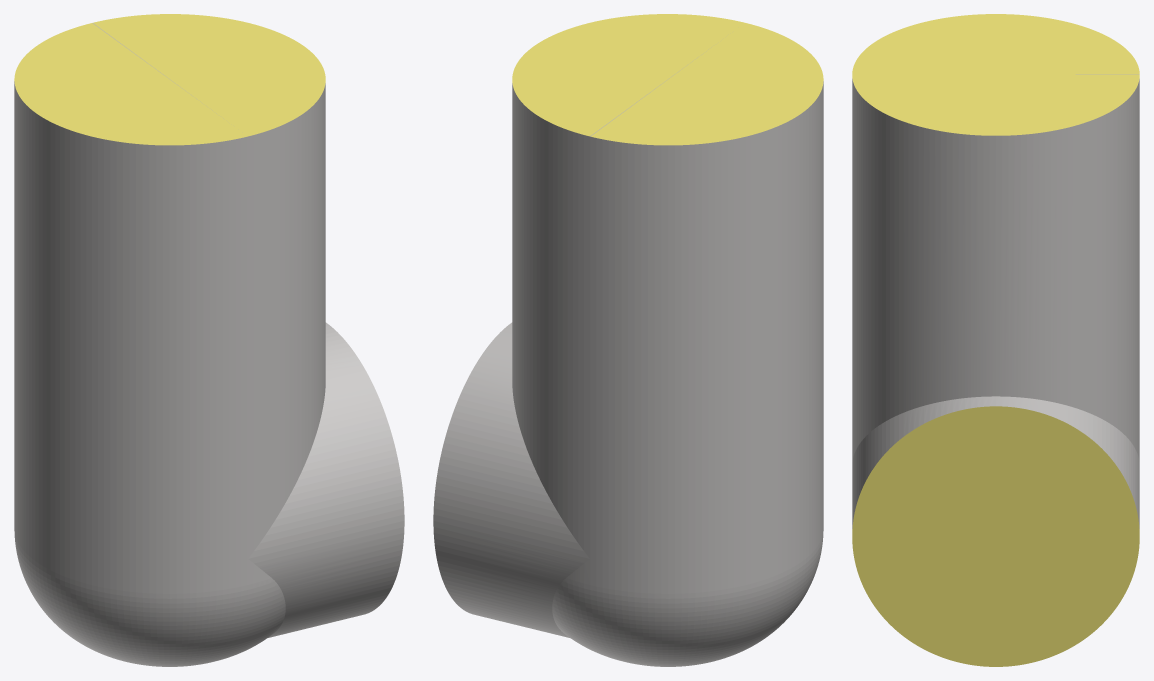
File: arm1.dae
The picture shows the model from 3 angles, left to right: view 1: azimuth 30°, elevation 25°; view 2: azimuth 150°, elevation 25°; view 3: azimuth 270°, elevation 25°; orthographic projection. The views are drawn at different scales.
Parts seen in each view (by area): view 1: Arm1; view 2: Arm1; view 3: Arm1.
Boxes of the visible parts, <box> form: Arm1: <box>14,14,404,666</box>; Arm1: <box>433,14,823,666</box>; Arm1: <box>852,14,1139,666</box>.
Bounding box in the file's own units: 0.133 × 0.1227 × 0.2454.
Materials: 2 (2 with a texture image).
